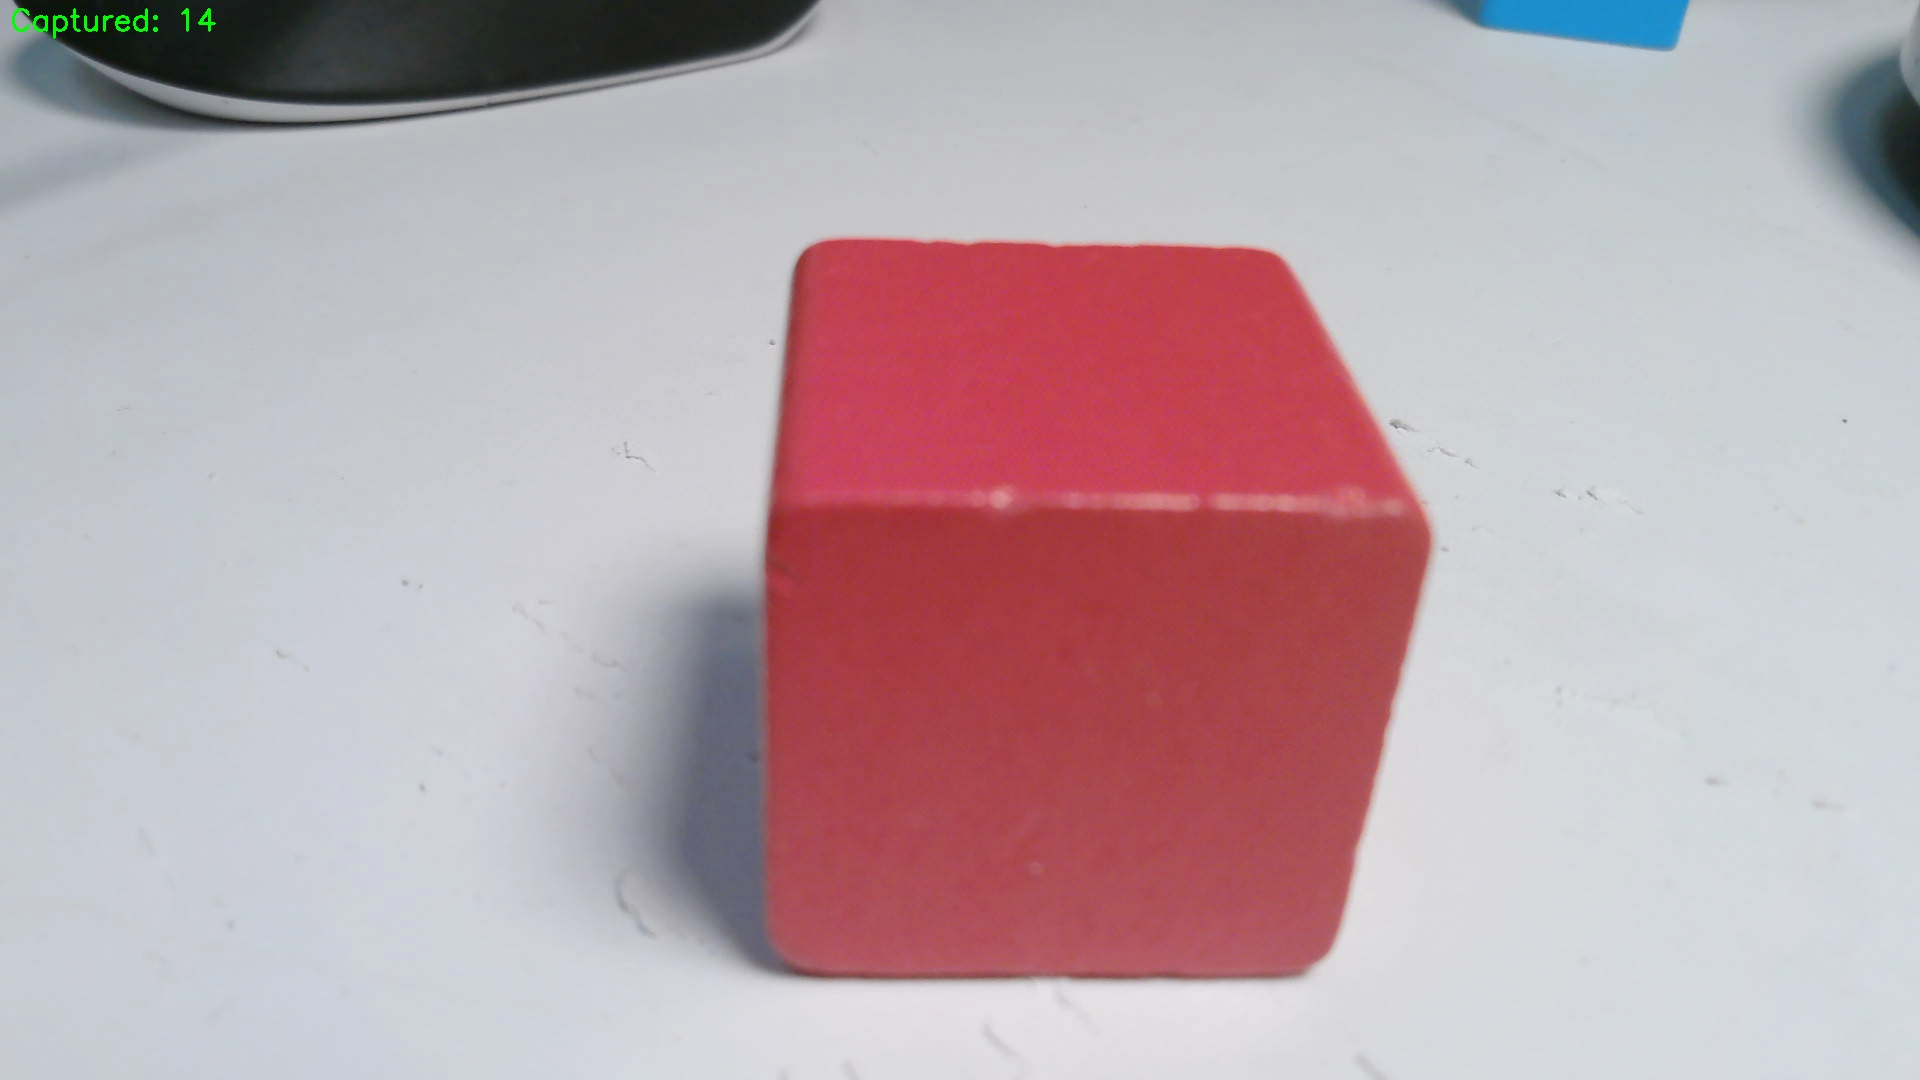red: (765, 243, 1425, 985)
